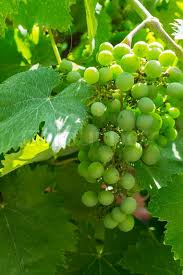grapes: (74, 42, 173, 230)
